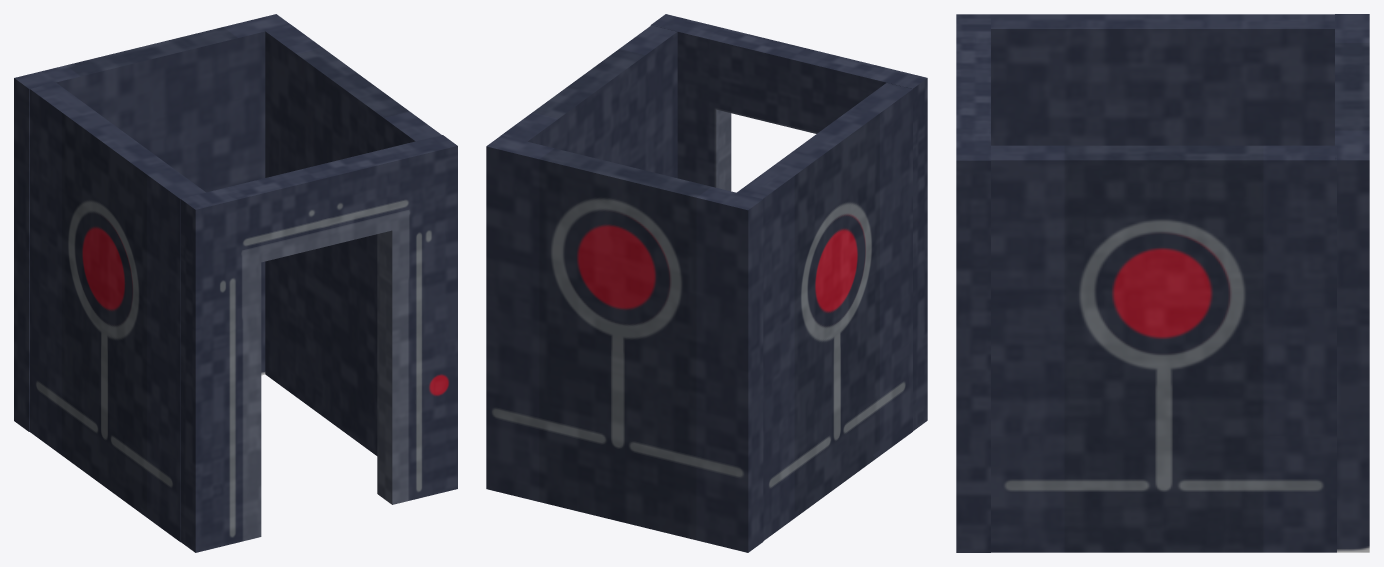
Rendered from lift.fbx.
3 views of the same model, side by side, from view 1: azimuth 30°, elevation 25°; view 2: azimuth 150°, elevation 25°; view 3: azimuth 270°, elevation 25° (orthographic). The views are drawn at different scales.
Visible parts, largest first — view 1: lift:lift; view 2: lift:lift; view 3: lift:lift.
Boxes of the visible parts, left/top/right/bottom form: lift:lift: left=14, top=14, right=457, bottom=552; lift:lift: left=486, top=14, right=927, bottom=552; lift:lift: left=956, top=14, right=1369, bottom=552.
Size of the model in its own units: 201 by 250 by 239.
1 material, 1 textured.
